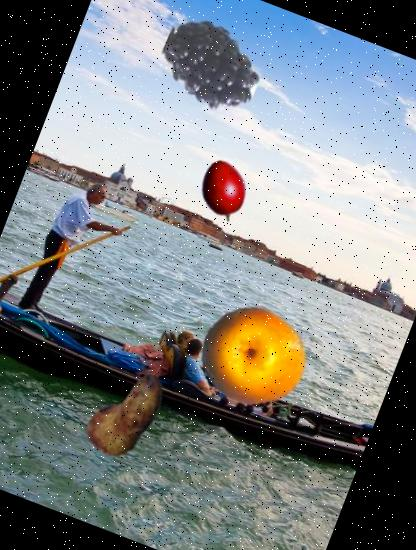Kumquats: (185, 289, 321, 425)
Mulberry: (146, 2, 276, 132)
Pear: (63, 349, 183, 469)
Tamarillo: (184, 152, 264, 232)
